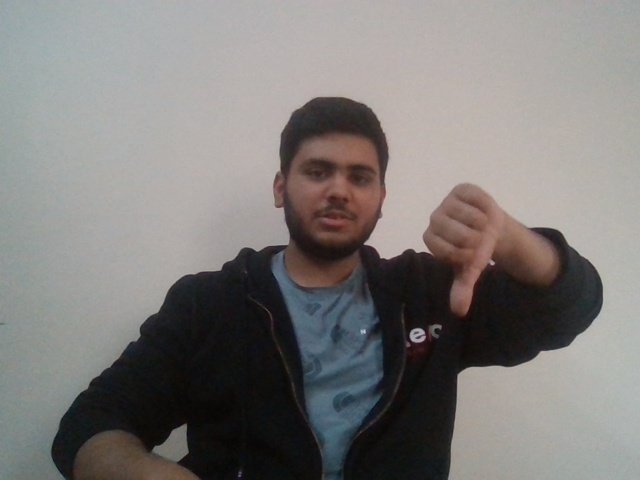No: (416, 176, 507, 321)
